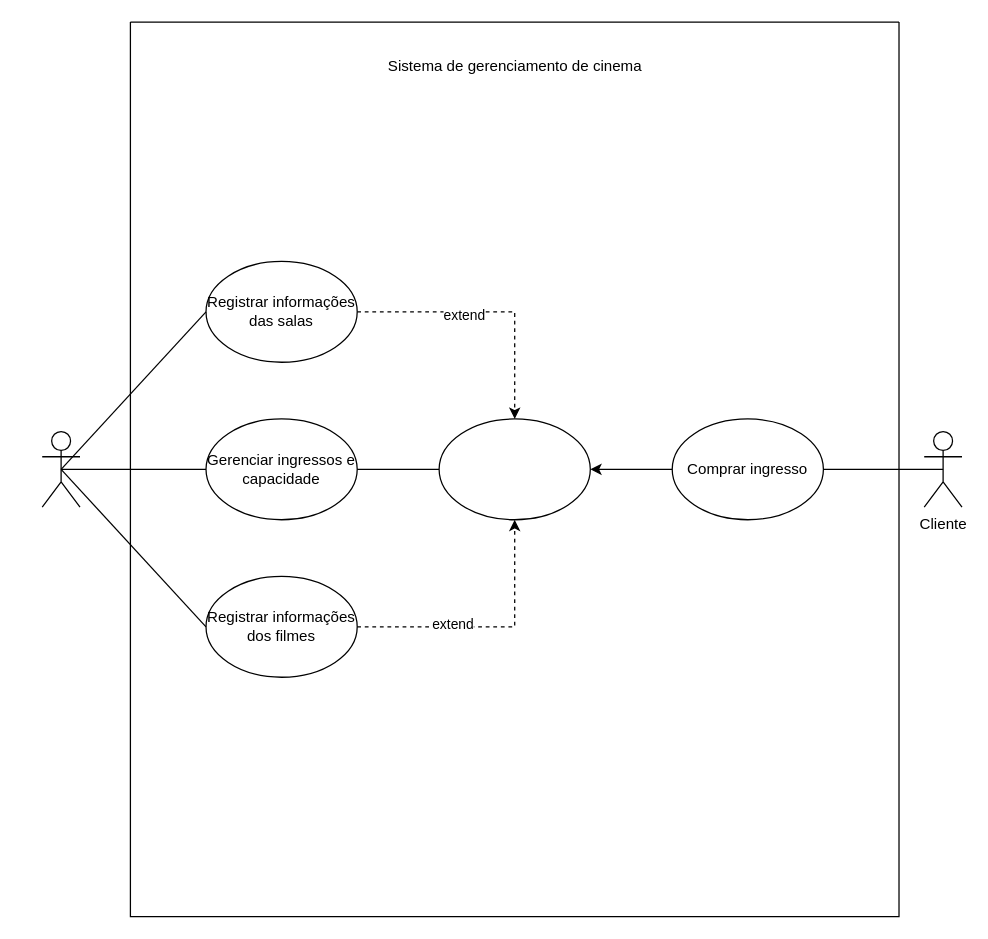
Image size: 988x939. Some labels were removed from this diagram. The shapes that lost their labels are listed below. From the top down, each one's box as (x1, y1, x2, y2) in pixels, then its label:
(41, 430, 80, 507): Funcionário
(438, 418, 590, 520): Sessões
